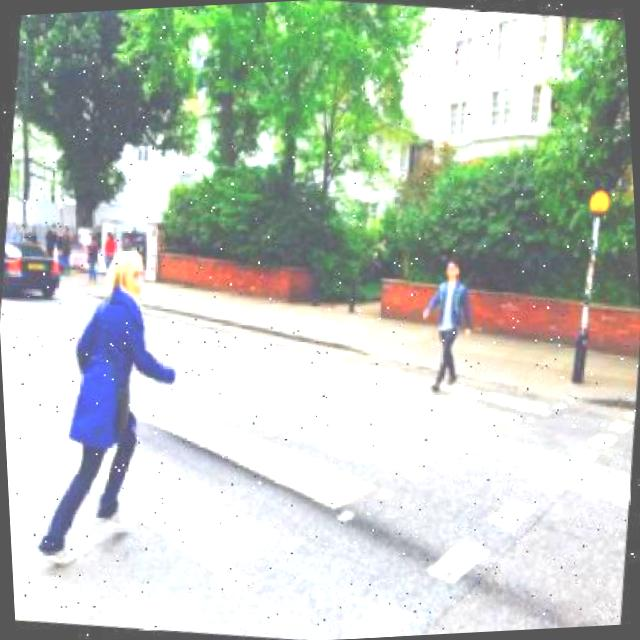Person: (22, 238, 195, 576), (412, 254, 481, 394)
